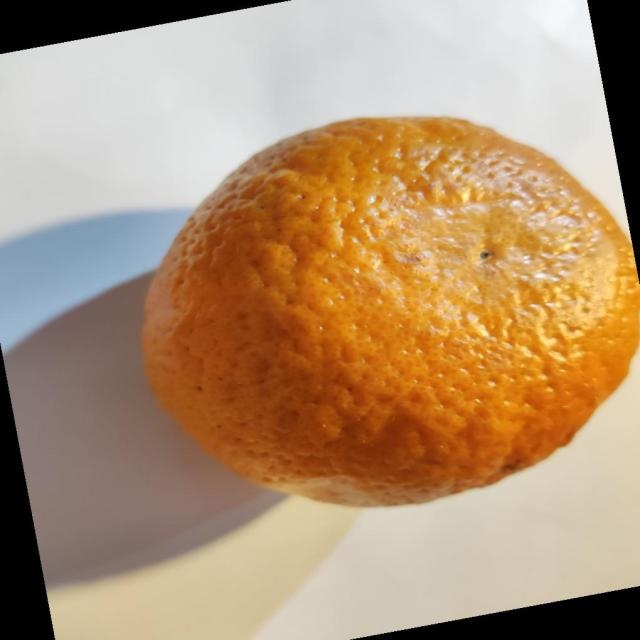agrume: (140, 114, 639, 508)
